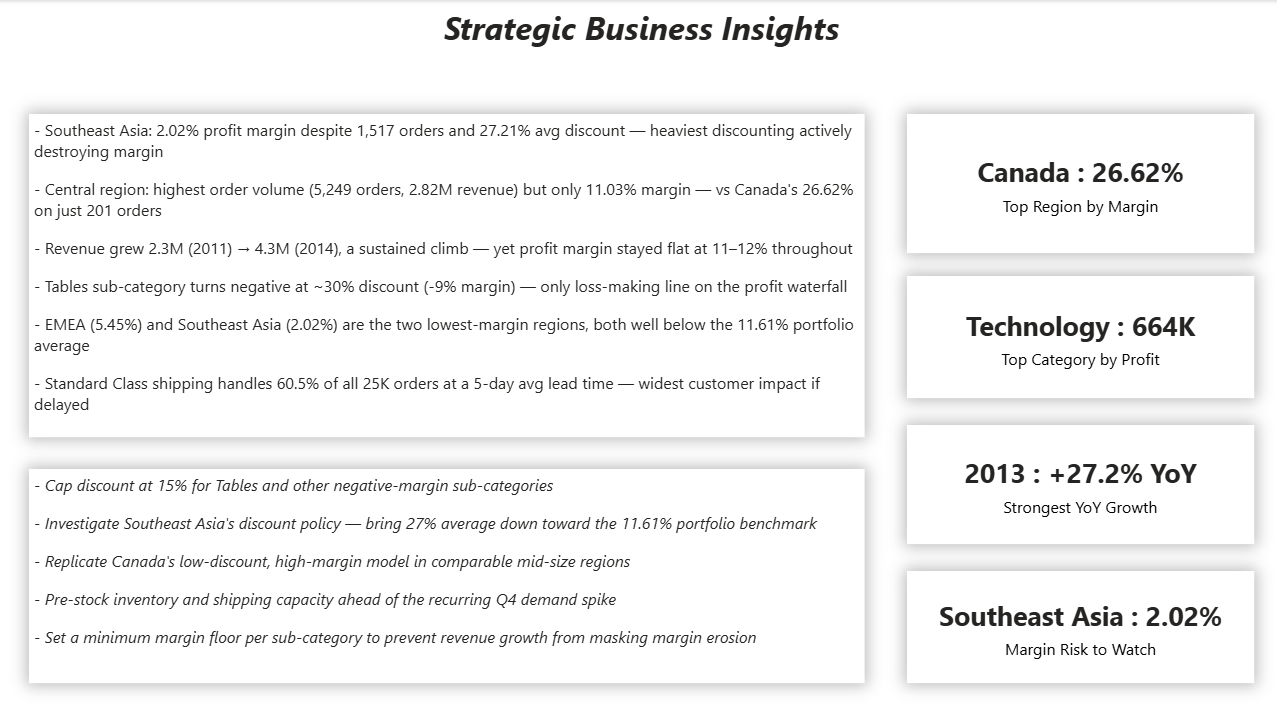

What the dashboard file says about the page in this screenshot:
{"tool":"powerbi","page":{"name":"Insights & Recommendations","canvas":[1280,720],"ordinal":4},"visuals":[{"type":"textbox","box":[30,113.9,835.3,322.7],"z":0},{"type":"card","fields":{"Values":["superstore_clean.Strongest YoY Growth"]},"box":[907.3,424.7,346.7,118.9],"z":1000},{"type":"card","fields":{"Values":["superstore_clean.Top Region by Margin"]},"box":[907.3,113.9,346.7,138.9],"z":2000},{"type":"card","fields":{"Values":["superstore_clean.Margin Risk to Watch"]},"box":[907.3,570.6,346.7,111.9],"z":3000},{"type":"textbox","box":[30,0,1224,68.9],"z":4000},{"type":"textbox","box":[30,468.6,835.3,213.8],"z":5000},{"type":"card","fields":{"Values":["superstore_clean.Top Category by Profit"]},"box":[907.3,275.8,346.7,121.9],"z":6000}]}

Visuals, with their boxes in screenshot pixels (x1, y1, x2, y2), scaled from the page's 1280x720 canvas onto the 1277x717 screenshot:
textbox: box=[30, 113, 863, 435]
card - superstore_clean.Strongest YoY Growth: box=[905, 423, 1251, 541]
card - superstore_clean.Top Region by Margin: box=[905, 113, 1251, 252]
card - superstore_clean.Margin Risk to Watch: box=[905, 568, 1251, 680]
textbox: box=[30, 0, 1251, 69]
textbox: box=[30, 467, 863, 680]
card - superstore_clean.Top Category by Profit: box=[905, 275, 1251, 396]
